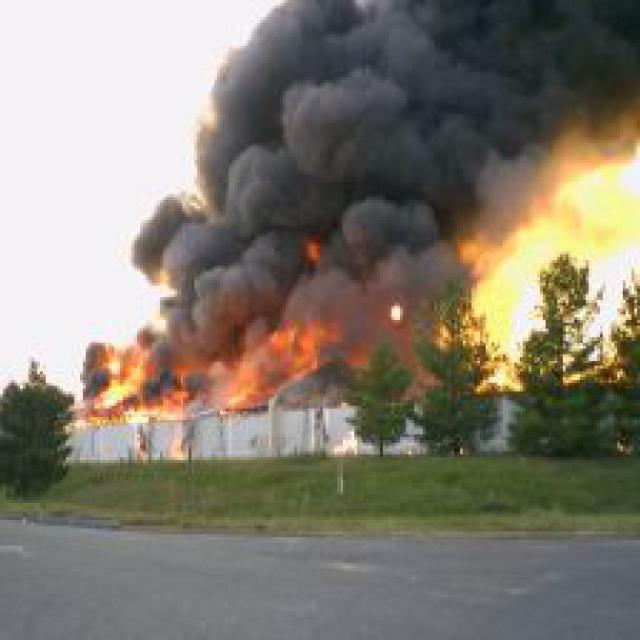fire: (86, 257, 351, 432), (460, 137, 637, 389)
